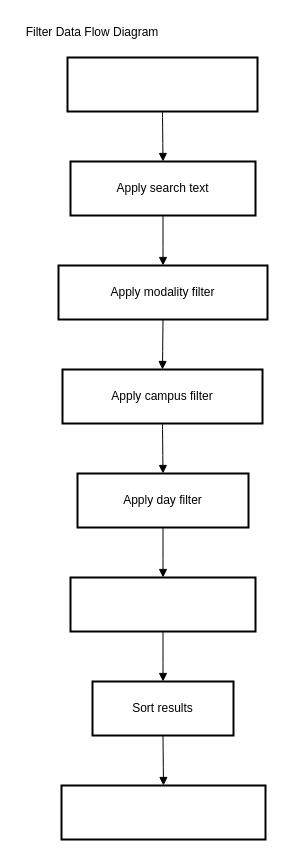
Image size: 285x857. Some labels were removed from this diagram. The centre of each missing label's shape, as x and y in pixels:
"All loaded courses" belongs at point (162, 84).
"Apply time filters" belongs at point (162, 604).
"Display CourseCards" belongs at point (163, 812).
